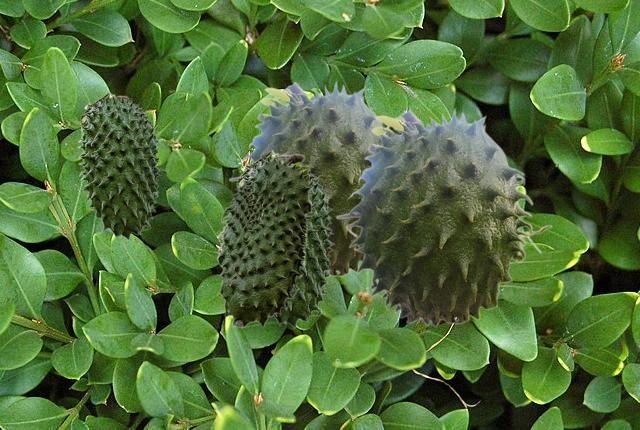guyabano: (335, 106, 552, 327), (228, 79, 383, 277), (235, 149, 334, 327), (216, 153, 312, 327), (77, 91, 161, 239)
